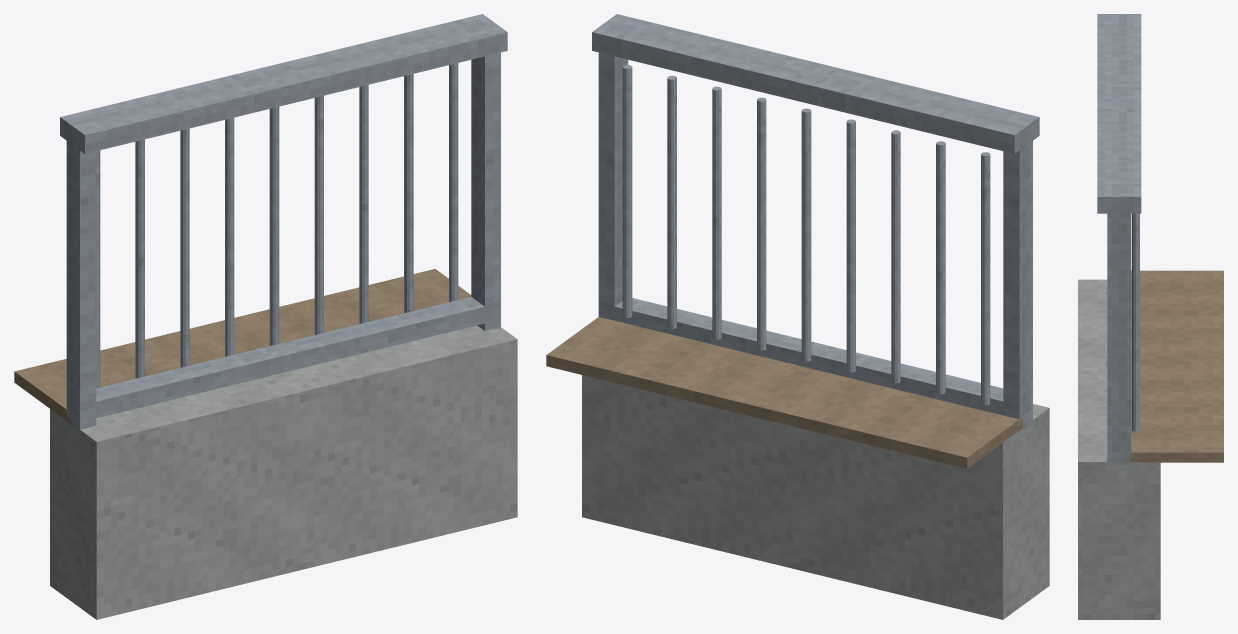
File: level_blockout_refined_prison_visitation_grille.glb
The picture shows the model from 3 angles, left to right: view 1: azimuth 30°, elevation 25°; view 2: azimuth 150°, elevation 25°; view 3: azimuth 270°, elevation 25°; orthographic projection. The views are drawn at different scales.
Parts seen in each view (by area): view 1: level_blockout_refined_prison_visitation_grille; view 2: level_blockout_refined_prison_visitation_grille; view 3: level_blockout_refined_prison_visitation_grille.
Part boxes in pixels (x1,y1,x2,y2): level_blockout_refined_prison_visitation_grille: (14, 14, 517, 619); level_blockout_refined_prison_visitation_grille: (546, 14, 1049, 619); level_blockout_refined_prison_visitation_grille: (1078, 14, 1223, 619).
Size of the model in its own units: 2.36 by 2.54 by 0.795.
3 materials, 3 textured.
